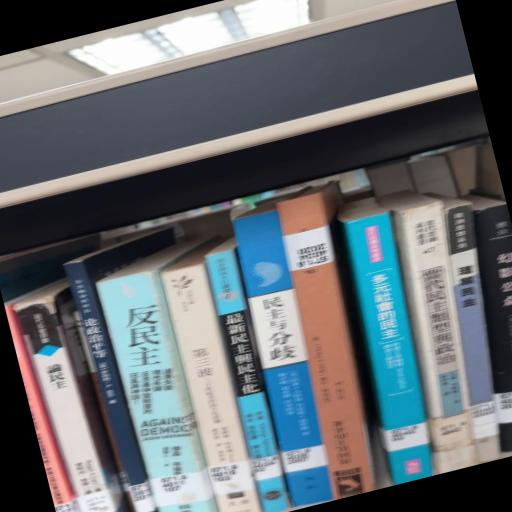reverse: (277, 183, 376, 501)
